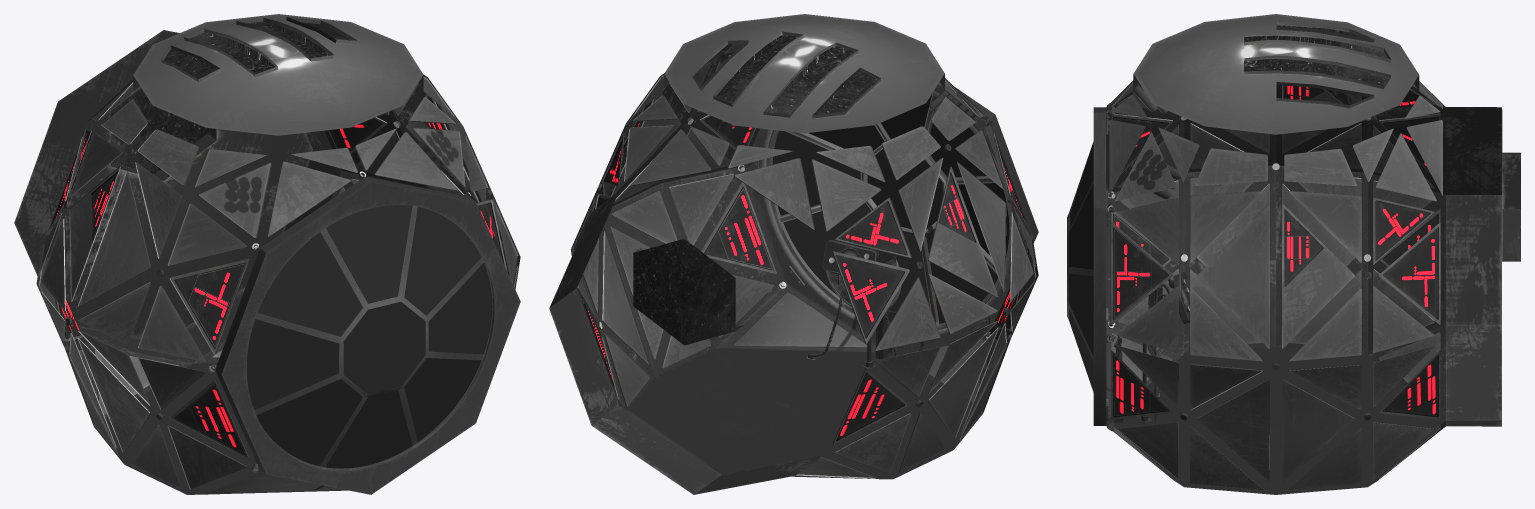
File: tie_cockpit.fbx
3 renders of one model, left to right at view 1: azimuth 30°, elevation 25°; view 2: azimuth 150°, elevation 25°; view 3: azimuth 270°, elevation 25°, orthographic. The views are drawn at different scales.
Parts seen in each view (by area): view 1: triangles, window_front, hull, hatch, canopy_brace, triangles_lights, canopy_struts, floor, window_top, window_back; view 2: triangles, hull, floor, hatch, triangles_lights, window_front, window_back, canopy_brace, window_top, canopy_struts, detail_metal_painted_black, canopy_struts_insets (+2 smaller); view 3: triangles, hull, hatch, triangles_lights, floor, canopy_brace, window_front, window_top, canopy_struts, detail_metal_painted_black, sensors, bolts_hull.
Part boxes in pixels (<box>): triangles: <box>39,38,518,494</box>; window_front: <box>247,205,492,468</box>; hull: <box>14,22,520,494</box>; hatch: <box>133,14,423,135</box>; canopy_brace: <box>215,177,520,494</box>; triangles_lights: <box>51,96,504,455</box>; canopy_struts: <box>254,206,492,469</box>; floor: <box>94,363,347,494</box>; window_top: <box>164,21,330,79</box>; window_back: <box>110,88,206,173</box>; triangles: <box>573,43,1036,478</box>; hull: <box>549,44,1038,494</box>; floor: <box>629,348,982,479</box>; hatch: <box>664,14,944,133</box>; triangles_lights: <box>584,103,1024,441</box>; window_front: <box>772,94,1009,323</box>; window_back: <box>633,238,735,345</box>; canopy_brace: <box>744,84,1038,352</box>; window_top: <box>716,34,878,115</box>; canopy_struts: <box>767,91,1011,328</box>; detail_metal_painted_black: <box>823,241,896,369</box>; canopy_struts_insets: <box>780,95,995,322</box>; triangles: <box>1109,80,1442,489</box>; hull: <box>1106,74,1520,487</box>; hatch: <box>1133,14,1418,134</box>; triangles_lights: <box>1113,85,1438,417</box>; floor: <box>1106,347,1445,494</box>; canopy_brace: <box>1093,107,1106,425</box>; window_front: <box>1068,142,1093,391</box>; window_top: <box>1244,25,1389,86</box>; canopy_struts: <box>1067,141,1093,360</box>; detail_metal_painted_black: <box>1114,278,1189,423</box>; sensors: <box>1132,83,1180,199</box>; bolts_hull: <box>1180,116,1371,420</box>.
Bounding box in the file's own units: 256 × 220 × 242.
22 materials, 22 textured.
